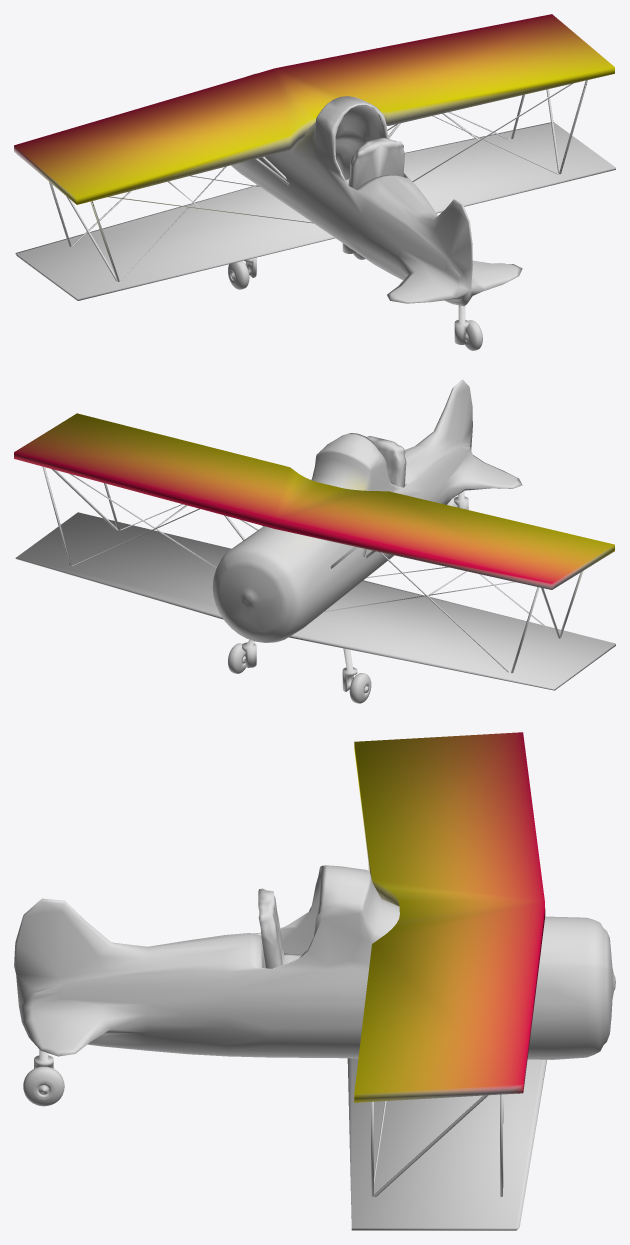
Rendered from SceneExporter_Original.dae.
3 renders of one model, top to bottom at view 1: azimuth 30°, elevation 25°; view 2: azimuth 150°, elevation 25°; view 3: azimuth 270°, elevation 25°, orthographic. The views are drawn at different scales.
Parts seen in each view (by area): view 1: AirPlane; view 2: AirPlane; view 3: AirPlane.
Part boxes in pixels (x1,y1,x2,y2): AirPlane: [14, 14, 615, 350]; AirPlane: [14, 379, 615, 703]; AirPlane: [14, 732, 615, 1230].
Size of the model in its own units: 4.6 by 3.32 by 1.72.
